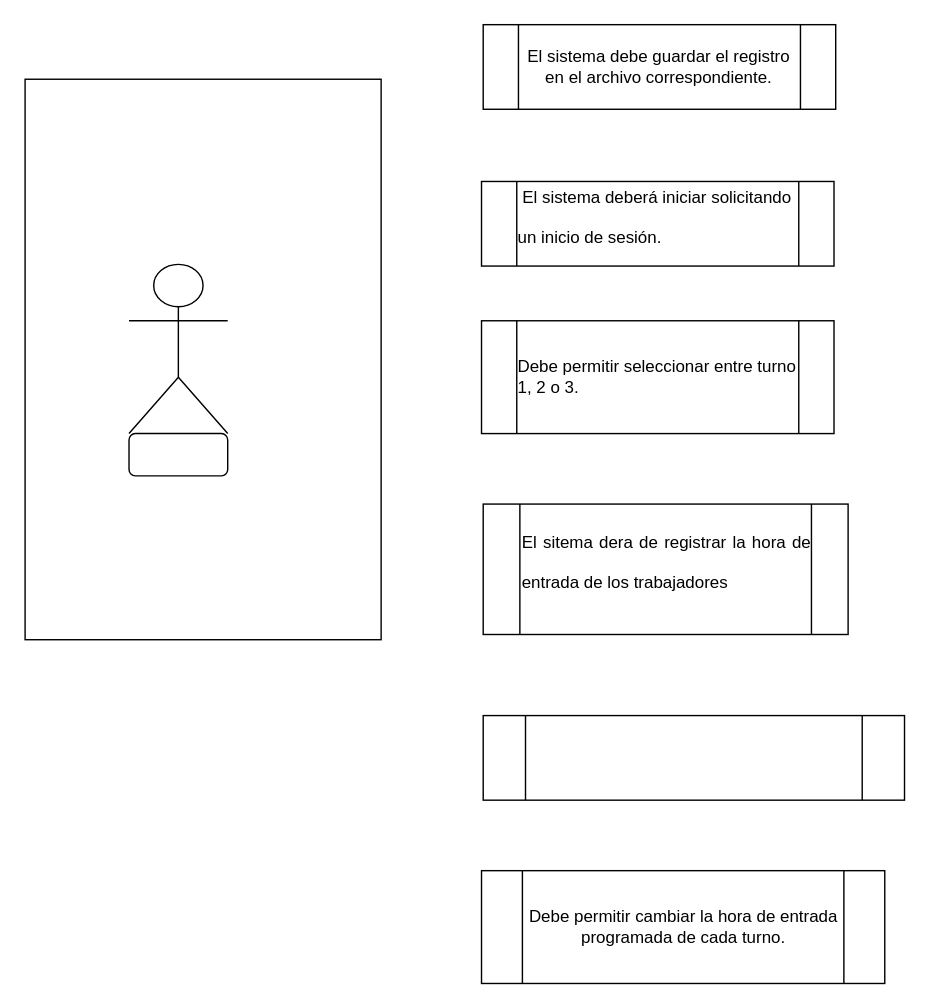
Some shapes in this 929 by 1008 pixel diagram are drawn without their labels. Here are the shapes that lost their labels. From the top down, the box of each, then its label:
(128, 263, 228, 434): Actor
(128, 432, 228, 476): supervisor
(482, 714, 905, 800): El sitema devera de poder motrar un registro de la hora de entrada
